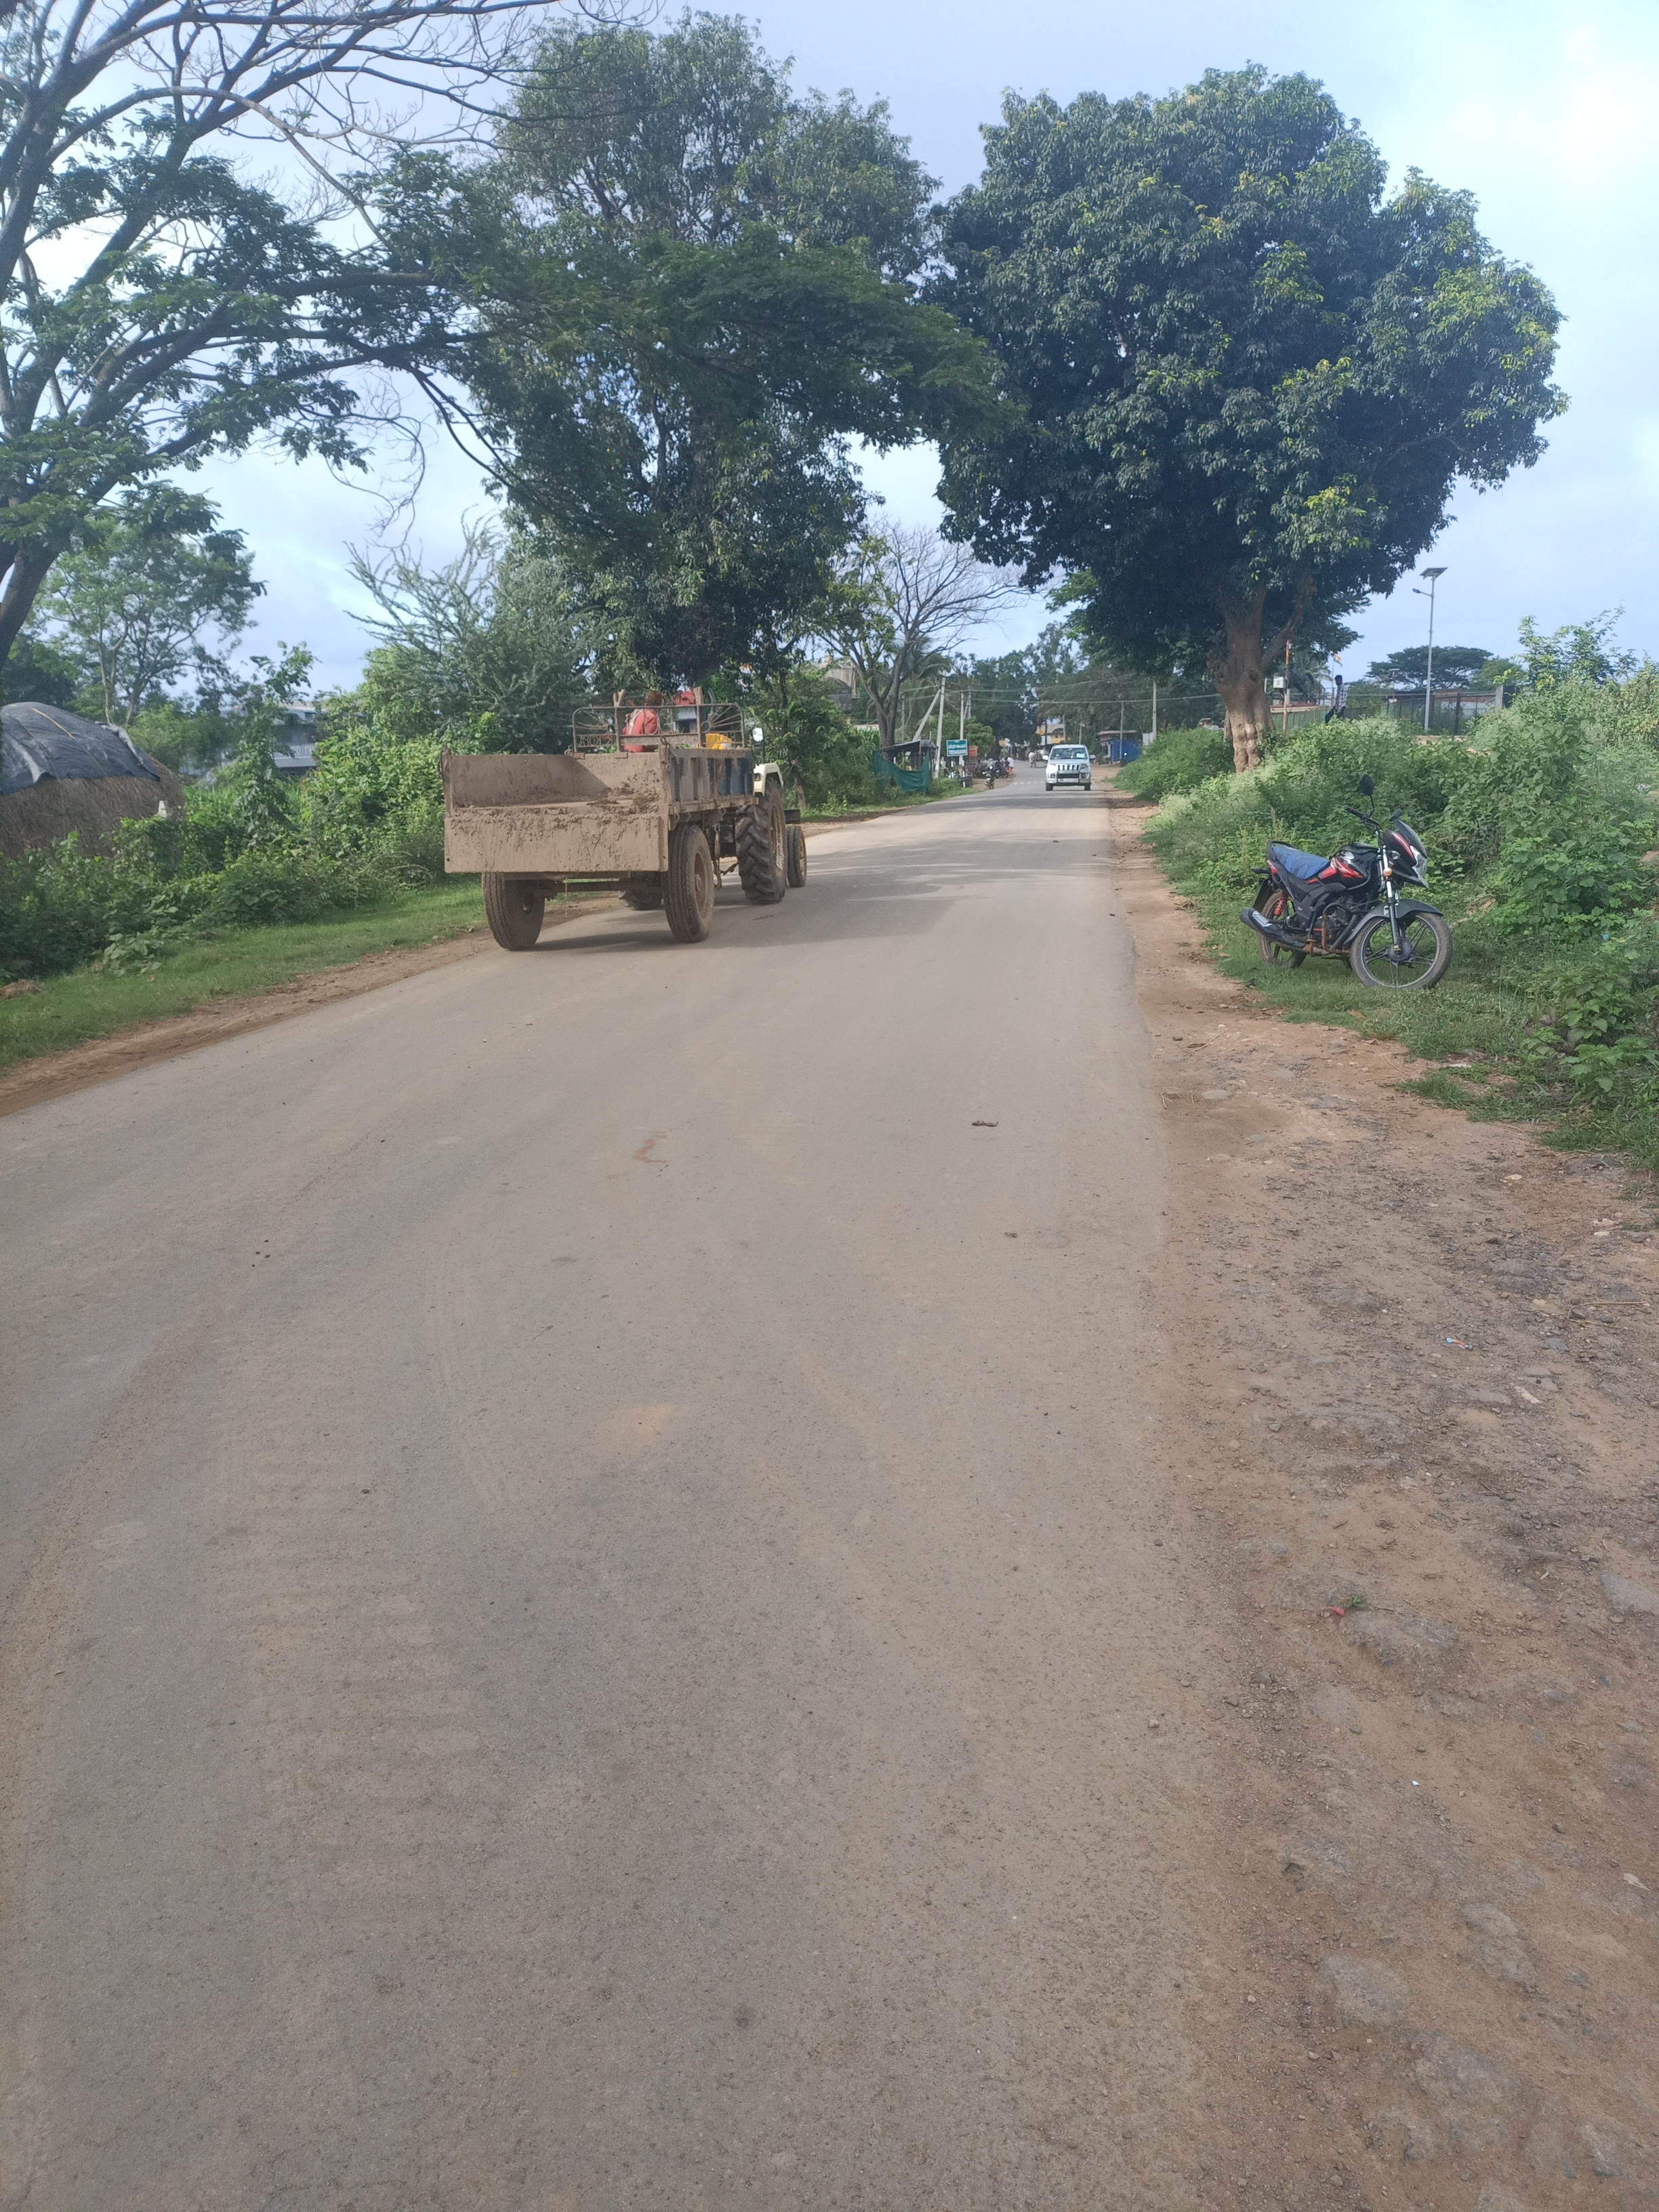tractor: (436, 681, 810, 953)
